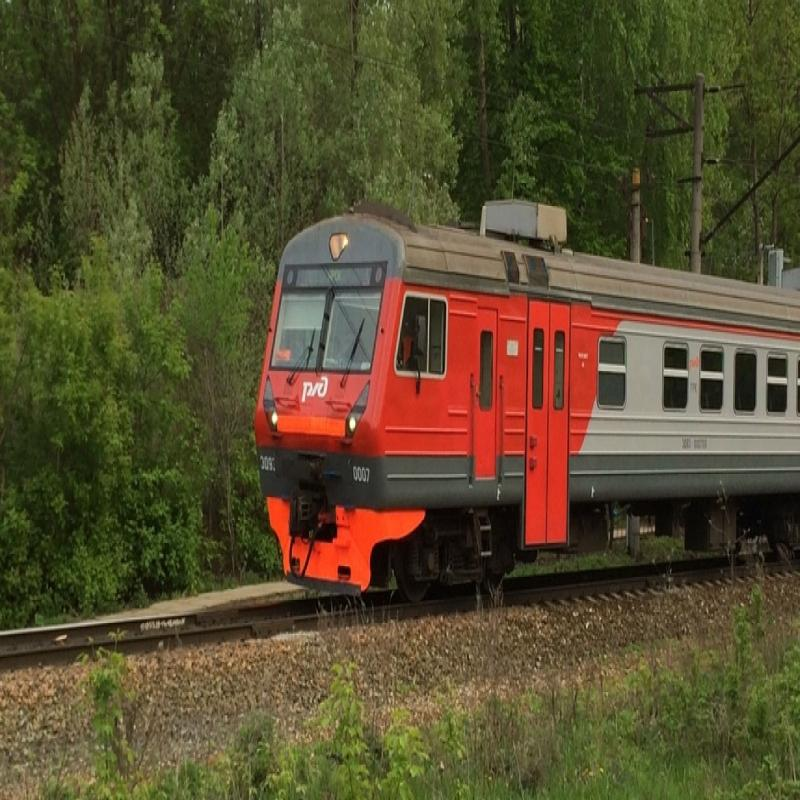train: (252, 162, 800, 627)
